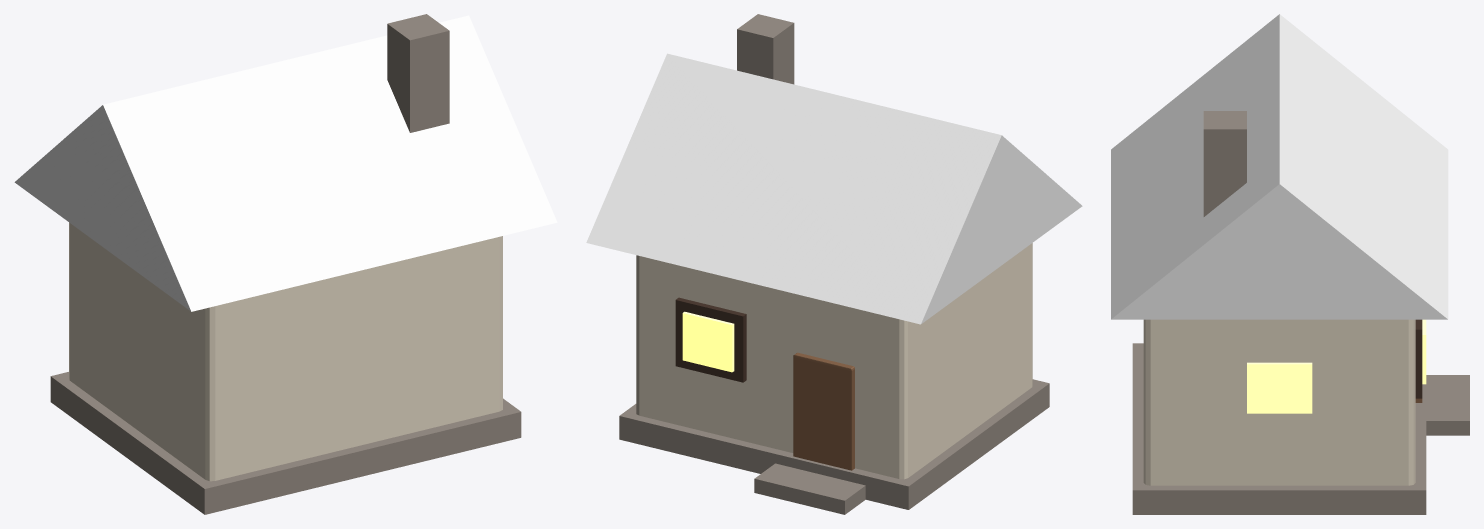
Rendered from cottage.glb.
The picture shows the model from 3 angles, left to right: view 1: azimuth 30°, elevation 25°; view 2: azimuth 150°, elevation 25°; view 3: azimuth 270°, elevation 25°; orthographic projection. The views are drawn at different scales.
Visible parts, largest first — view 1: roof, Cube, Cube.001, Cube.007; view 2: roof, Cube, Cube.001, Cube.002, Cube.006, Cube.007, Cube.004, Cube.003; view 3: roof, Cube, Cube.001, Cube.007, Cube.005, Cube.006, Cube.003.
Part boxes in pixels (x1,y1,x2,y2): roof: [14, 15, 557, 311]; Cube: [69, 222, 502, 481]; Cube.001: [50, 372, 521, 514]; Cube.007: [387, 14, 449, 132]; roof: [586, 53, 1082, 324]; Cube: [636, 243, 1032, 479]; Cube.001: [619, 379, 1049, 509]; Cube.002: [793, 352, 854, 470]; Cube.006: [754, 463, 865, 514]; Cube.007: [737, 14, 794, 84]; Cube.004: [682, 311, 734, 372]; Cube.003: [675, 297, 746, 382]; roof: [1111, 14, 1448, 319]; Cube: [1143, 319, 1415, 485]; Cube.001: [1132, 343, 1426, 514]; Cube.007: [1203, 111, 1246, 216]; Cube.005: [1247, 362, 1312, 413]; Cube.006: [1426, 375, 1469, 435]; Cube.003: [1415, 319, 1422, 398].
Size of the model in its own units: 1.48 by 1.5 by 1.32.
